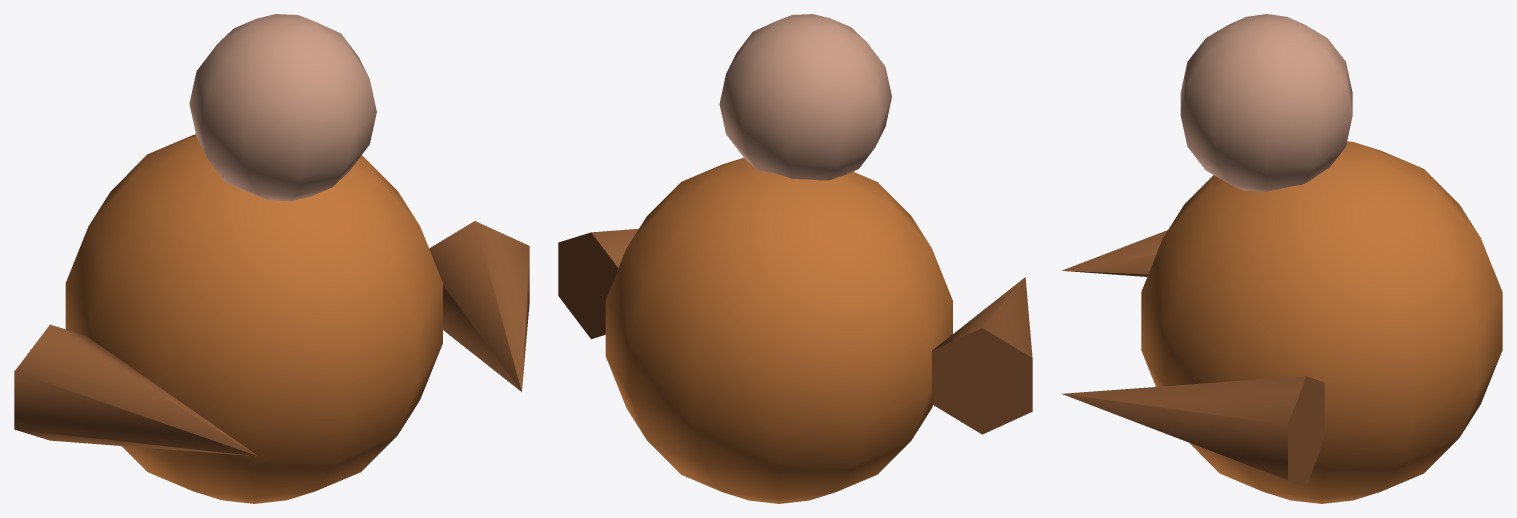
The model's file is canyon_monster_1.glb.
3 renders of one model, left to right at view 1: azimuth 30°, elevation 25°; view 2: azimuth 150°, elevation 25°; view 3: azimuth 270°, elevation 25°, orthographic. The views are drawn at different scales.
Visible parts, largest first — view 1: CoreBody, Head, MOTIF_canyon_pincer_-1, MOTIF_canyon_pincer_1; view 2: CoreBody, Head, MOTIF_canyon_pincer_-1, MOTIF_canyon_pincer_1; view 3: CoreBody, Head, MOTIF_canyon_pincer_1, MOTIF_canyon_pincer_-1.
Part boxes in pixels (x1,y1,x2,y2): CoreBody: (65, 134, 442, 503); Head: (189, 14, 376, 201); MOTIF_canyon_pincer_-1: (14, 324, 257, 456); MOTIF_canyon_pincer_1: (429, 221, 529, 391); CoreBody: (605, 157, 952, 503); Head: (719, 14, 891, 180); MOTIF_canyon_pincer_-1: (932, 277, 1032, 434); MOTIF_canyon_pincer_1: (558, 228, 638, 339); CoreBody: (1141, 141, 1502, 503); Head: (1180, 14, 1352, 191); MOTIF_canyon_pincer_1: (1061, 376, 1324, 486); MOTIF_canyon_pincer_-1: (1062, 230, 1167, 276).
Size of the model in its own units: 1.86 by 1.67 by 1.44.
